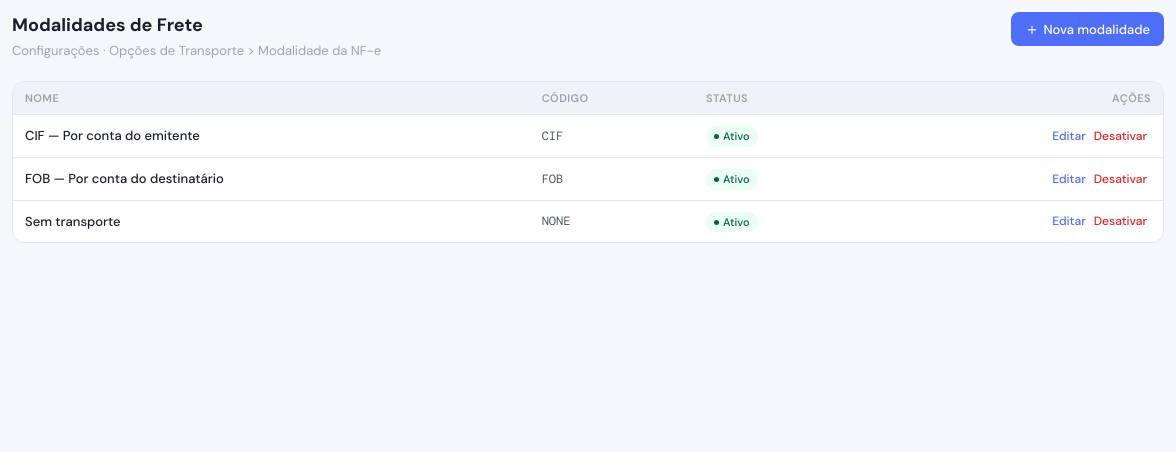
Scenario: TransportModalitiesComponent › keeps the form and shows the server message inline when the create is refused (409)
The width and height of the screenshot is (1176, 452).
Click the button "Nova modalidade" at (1088, 29), box [1011,12,1164,46]
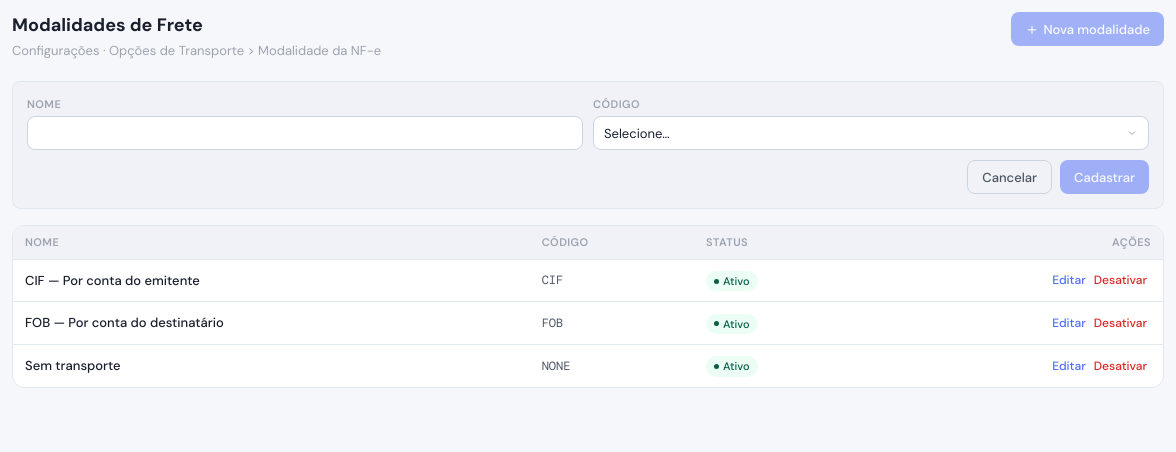
Type "CIF outra" into the field with id "tm-name" at (305, 133), box [27,116,583,150]
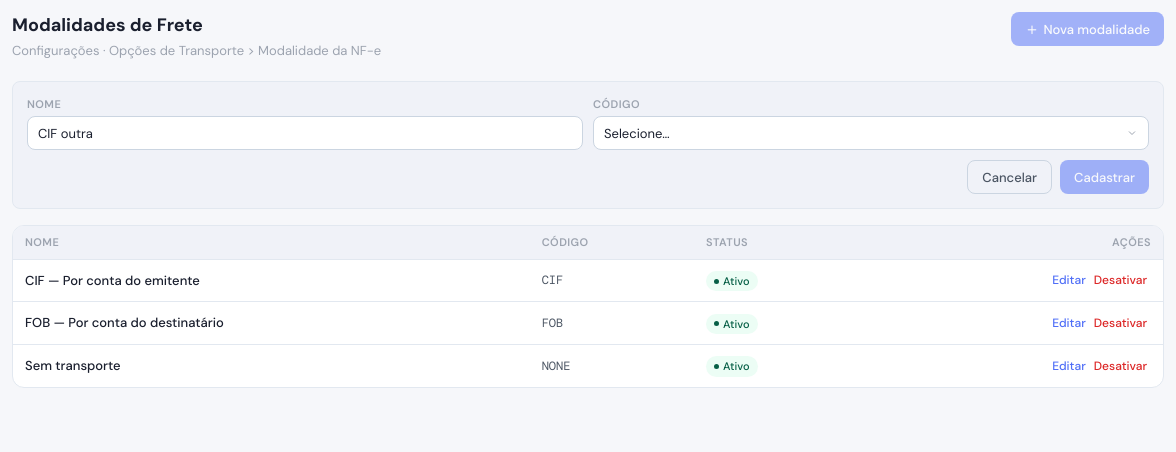
Select "CIF — frete por conta do emitente" in the dropdown with id "tm-code" at (871, 133), box [593,116,1149,150]
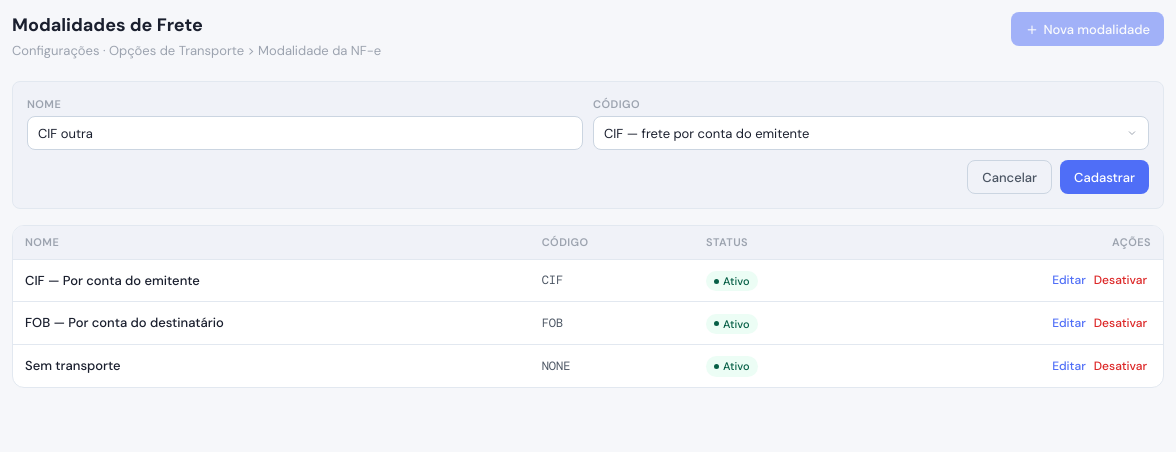
Click the submit button at (1104, 177), box [1060,160,1149,194]
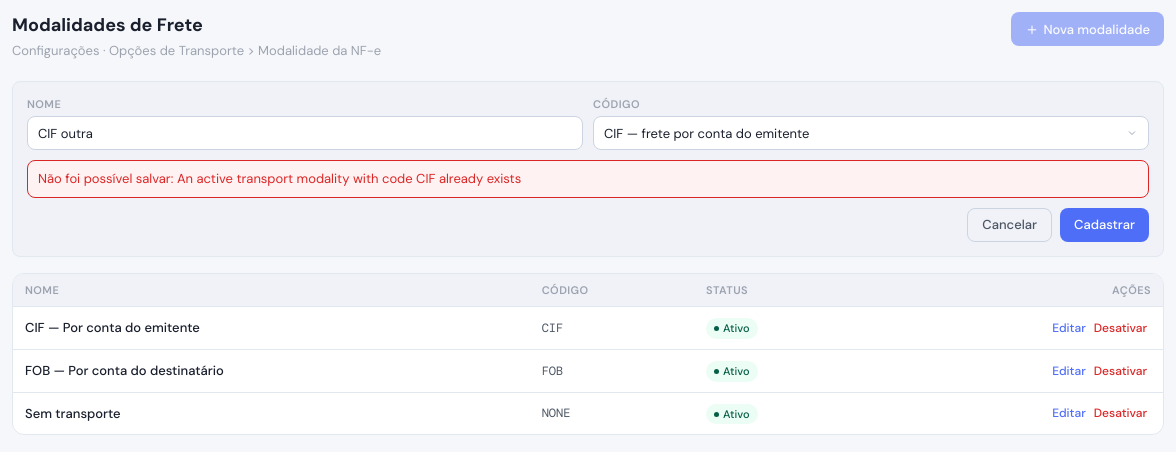
Expected: the message with class "form-error" shows "already exists", [38,170,521,187]
